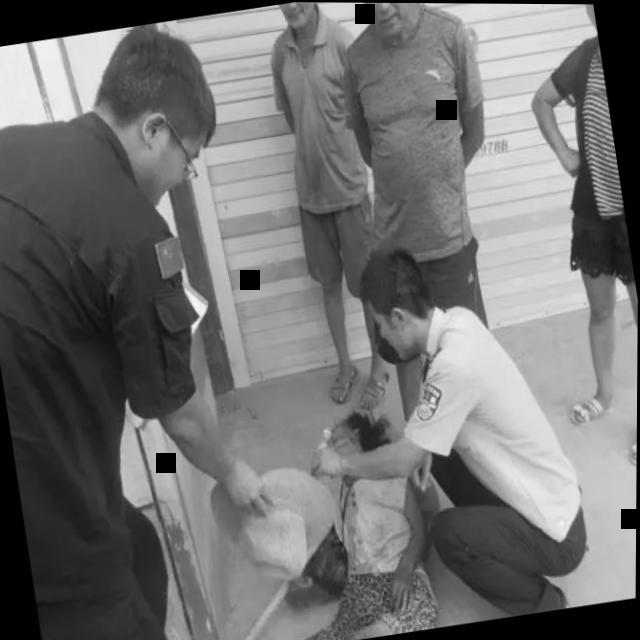Fall-Detected: (197, 369, 454, 640)
